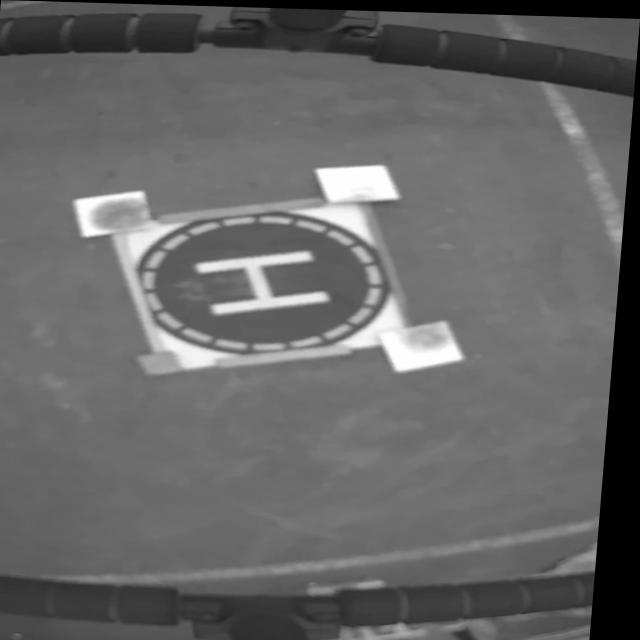Helipad: (198, 248, 334, 316)
